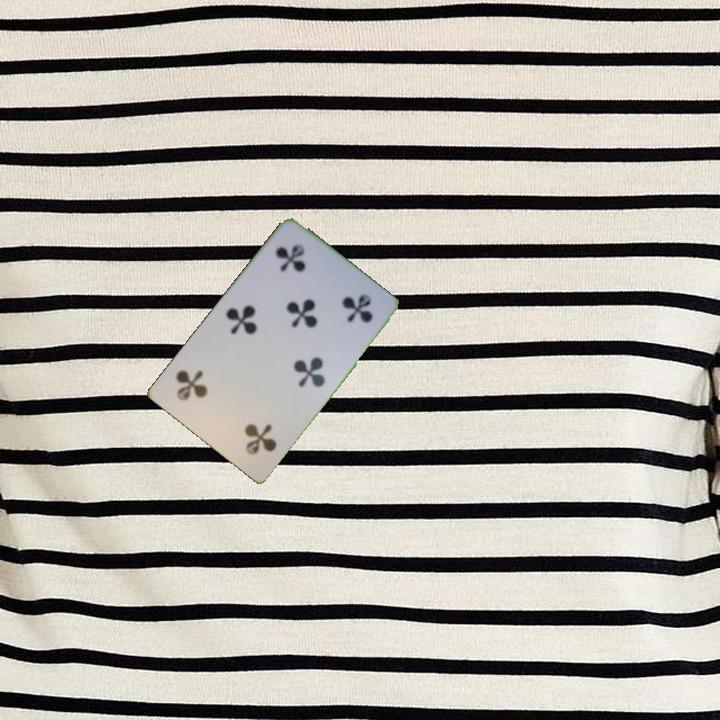c_7.png: (208, 386, 294, 471), (255, 228, 341, 312)
